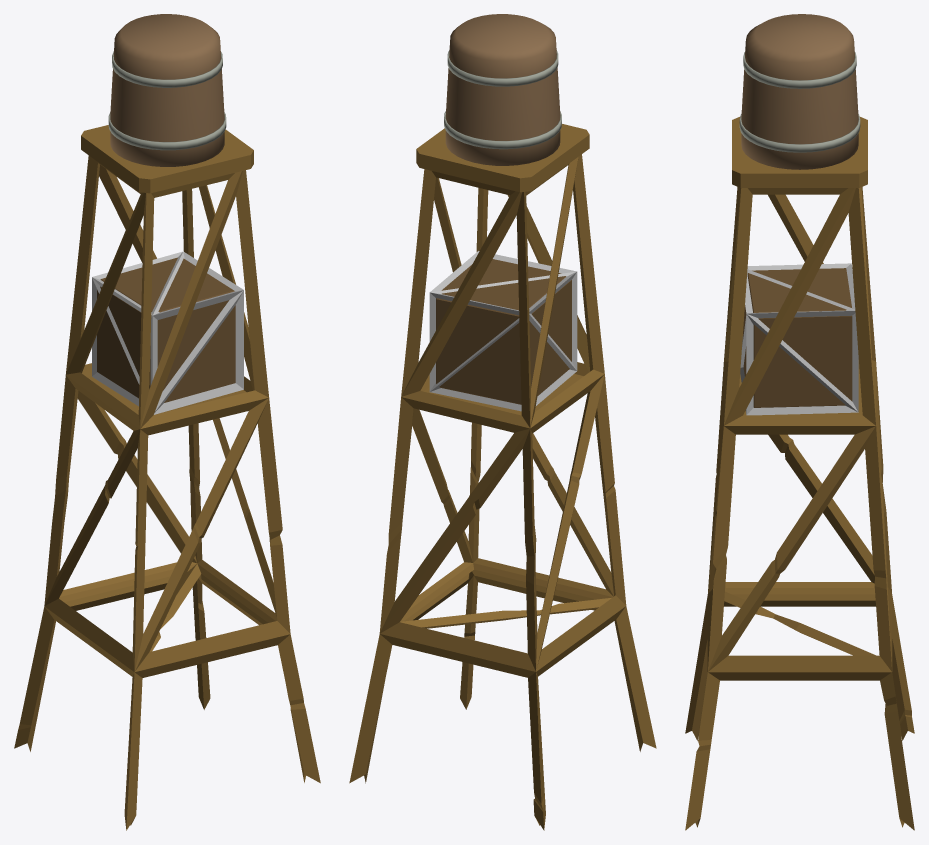
The model's file is CiterneEau.fbx.
3 renders of one model, left to right at view 1: azimuth 30°, elevation 25°; view 2: azimuth 150°, elevation 25°; view 3: azimuth 270°, elevation 25°, orthographic. The views are drawn at different scales.
Parts seen in each view (by area): view 1: CiterneEau_LOD0; view 2: CiterneEau_LOD0; view 3: CiterneEau_LOD0.
Part boxes in pixels (x1,y1,x2,y2): CiterneEau_LOD0: [14, 14, 320, 830]; CiterneEau_LOD0: [349, 14, 656, 830]; CiterneEau_LOD0: [685, 14, 914, 830].
Size of the model in its own units: 425 by 1531 by 425.
